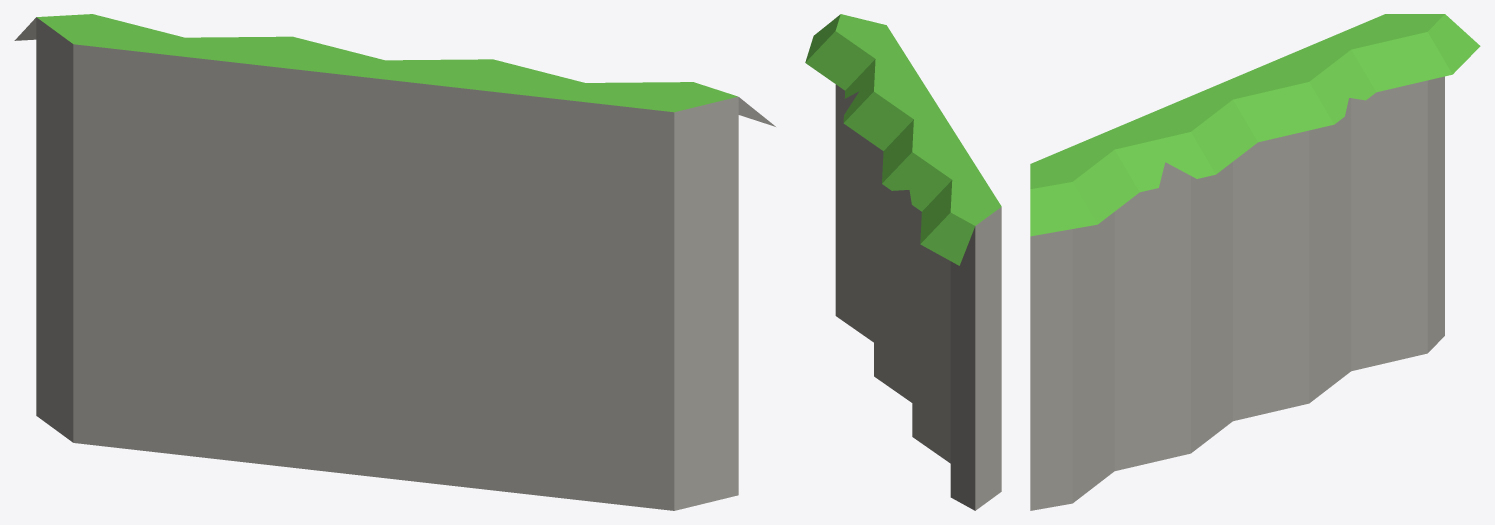
File: cliff_topDiagonal_stone.glb
The picture shows the model from 3 angles, left to right: view 1: azimuth 30°, elevation 25°; view 2: azimuth 150°, elevation 25°; view 3: azimuth 270°, elevation 25°; orthographic projection. The views are drawn at different scales.
Visible parts, largest first — view 1: cliff_topDiagonal_stone; view 2: cliff_topDiagonal_stone; view 3: cliff_topDiagonal_stone.
Boxes of the visible parts, x1,y1,x2,y2 form: cliff_topDiagonal_stone: (14, 14, 775, 510); cliff_topDiagonal_stone: (805, 14, 1001, 510); cliff_topDiagonal_stone: (1030, 14, 1480, 510).
Size of the model in its own units: 1.27 by 1 by 1.27.
